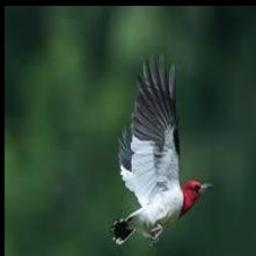Woodpecker: (107, 53, 212, 245)
